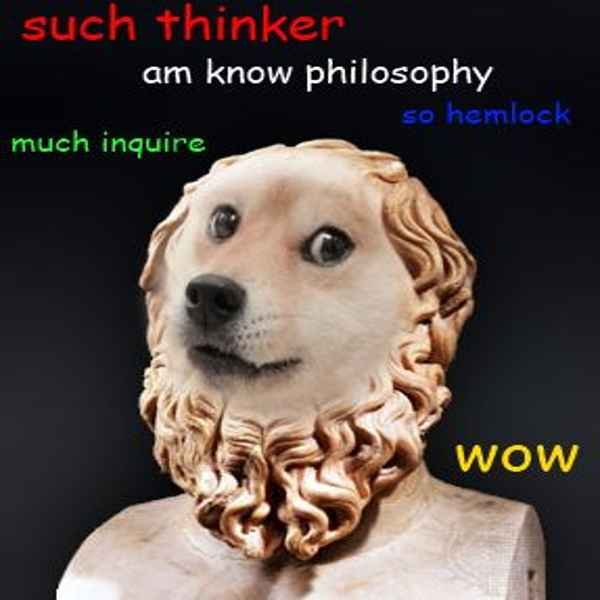doge: (122, 121, 429, 444)
